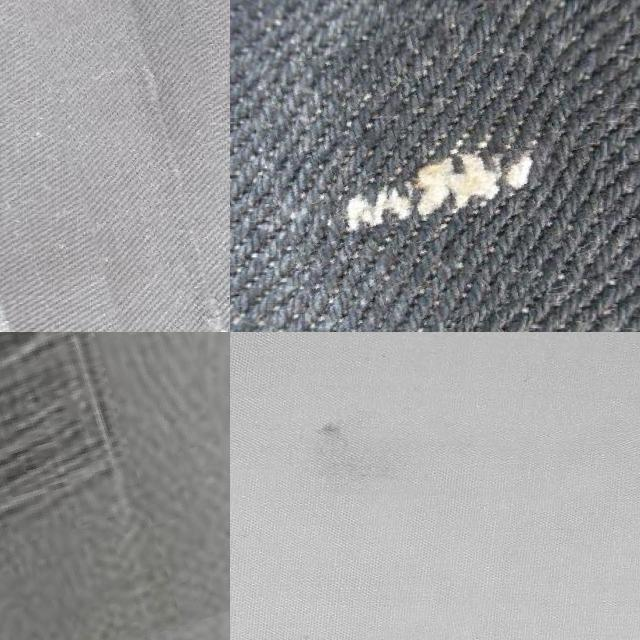Thread_other: (259, 333, 459, 530), (594, 332, 640, 471)
stains: (257, 9, 603, 332), (14, 0, 230, 332), (0, 332, 230, 640)
